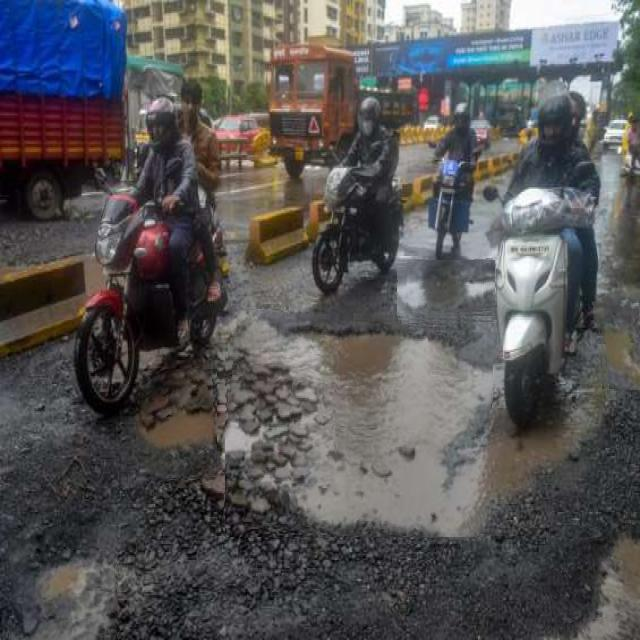Pothole: (225, 314, 494, 537), (9, 526, 117, 640), (541, 533, 640, 640), (140, 369, 218, 481), (397, 260, 496, 318), (597, 294, 640, 390)
